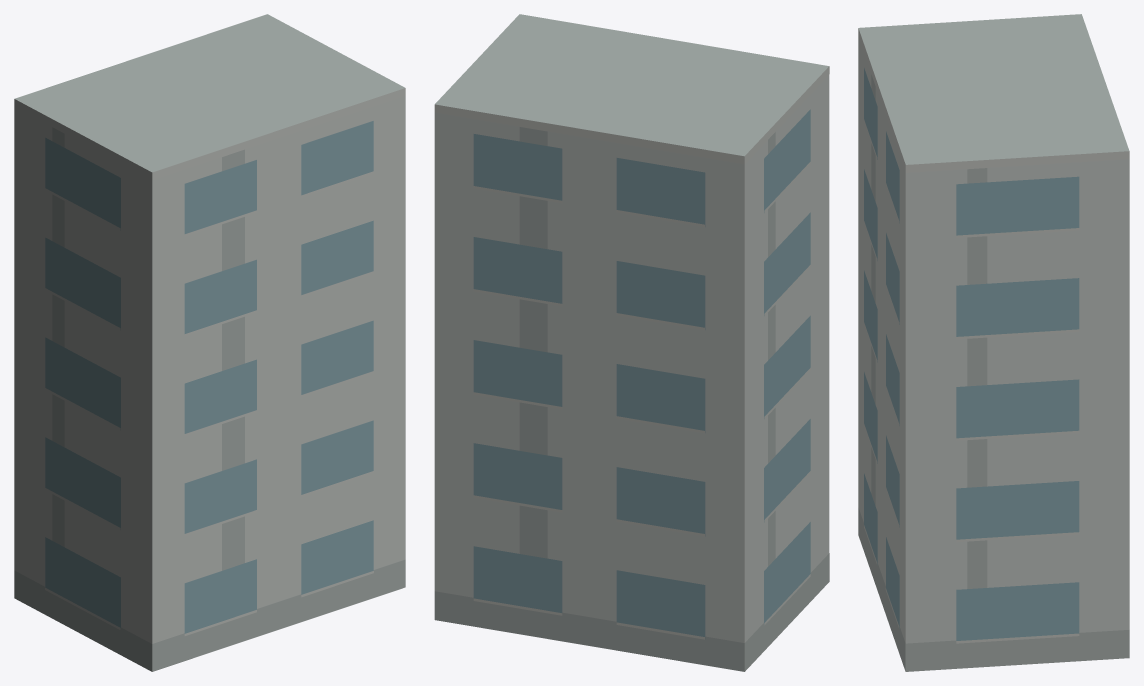
The model's file is residential-29720cb1-9e0b-4d9c-ad5c-077608a21663.glb.
3 renders of one model, left to right at view 1: azimuth 30°, elevation 25°; view 2: azimuth 150°, elevation 25°; view 3: azimuth 270°, elevation 25°, orthographic. The views are drawn at different scales.
Parts seen in each view (by area): view 1: residential-29720cb1-9e0b-4d9c-ad5c-077608a21663.tmp; view 2: residential-29720cb1-9e0b-4d9c-ad5c-077608a21663.tmp; view 3: residential-29720cb1-9e0b-4d9c-ad5c-077608a21663.tmp.
Boxes of the visible parts, <box> form: residential-29720cb1-9e0b-4d9c-ad5c-077608a21663.tmp: <box>14,14,405,671</box>; residential-29720cb1-9e0b-4d9c-ad5c-077608a21663.tmp: <box>434,14,829,671</box>; residential-29720cb1-9e0b-4d9c-ad5c-077608a21663.tmp: <box>858,14,1129,671</box>.
Bounding box in the file's own units: 9.75 × 15.25 × 7.4.
